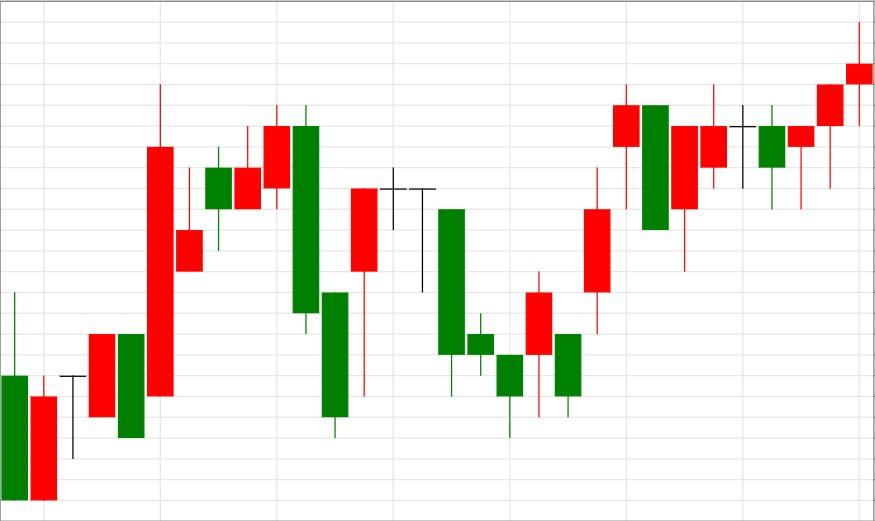bearish_engulfing_fall: (116, 84, 320, 438)
